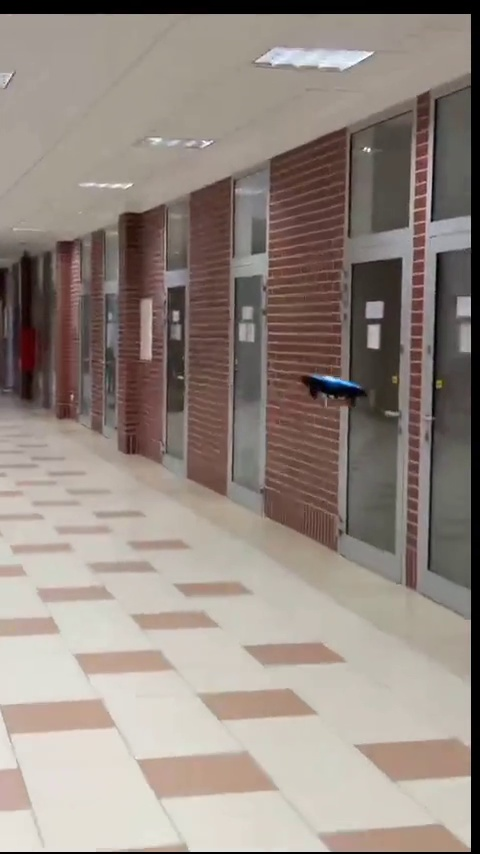drone: (295, 369, 366, 409)
